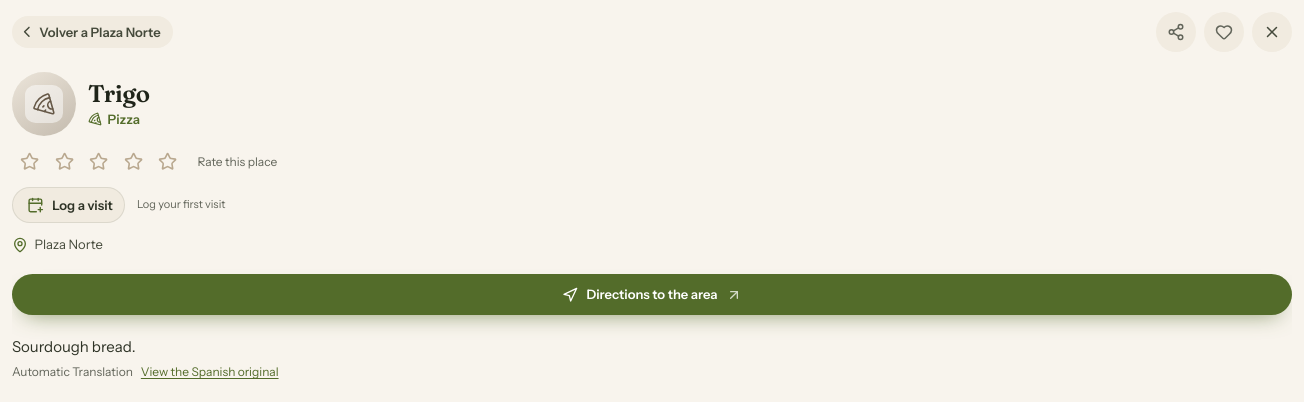
Test: PlaceDetail › descripción traducida › en inglés se lee la traducción, marcada como generada y con el original a un clic
Check: the text "Sourdough bread." is shown, box [12,337,136,356]
Check: the text "Automatic Translation" is shown, box [12,364,133,379]
Click the button "View the Spanish original" at (210,372), box [141,363,278,381]
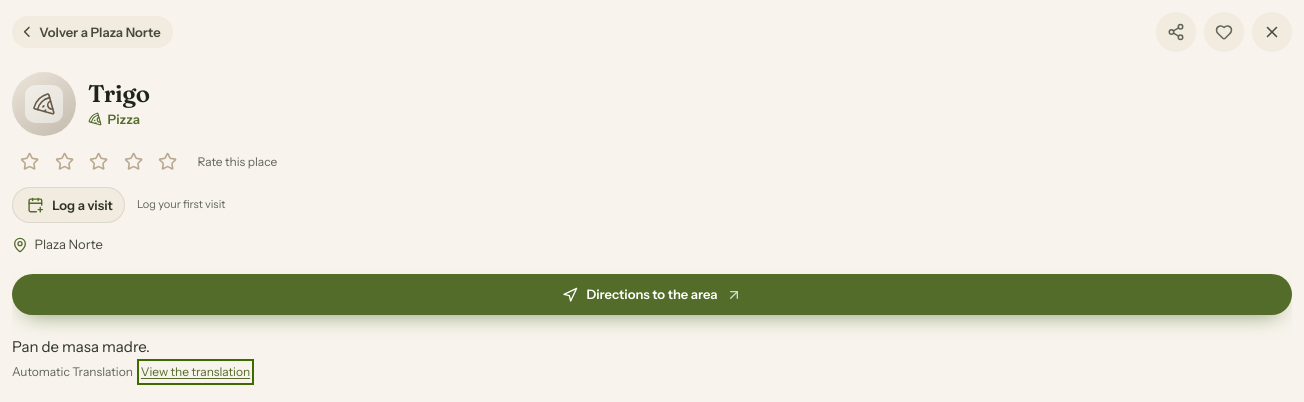
Check: the text "Pan de masa madre." is shown, box [12,337,150,356]
